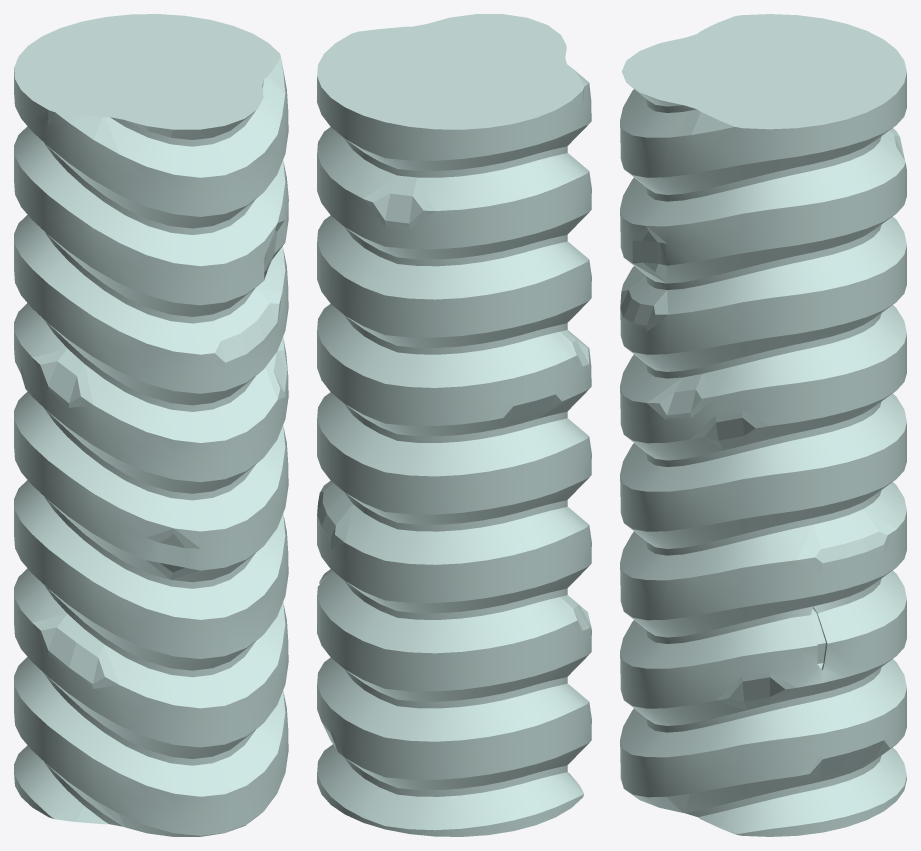
Rendered from drapak_wspinaczkowy.fbx.
The picture shows the model from 3 angles, left to right: view 1: azimuth 30°, elevation 25°; view 2: azimuth 150°, elevation 25°; view 3: azimuth 270°, elevation 25°; orthographic projection.
Parts seen in each view (by area): view 1: drapak_wspinaczkowy; view 2: drapak_wspinaczkowy; view 3: drapak_wspinaczkowy.
Part boxes in pixels (left/top/right/bottom): drapak_wspinaczkowy: left=14, top=14, right=288, bottom=836; drapak_wspinaczkowy: left=317, top=14, right=591, bottom=836; drapak_wspinaczkowy: left=620, top=14, right=906, bottom=836.
Size of the model in its own units: 53.33 by 153 by 56.1.
